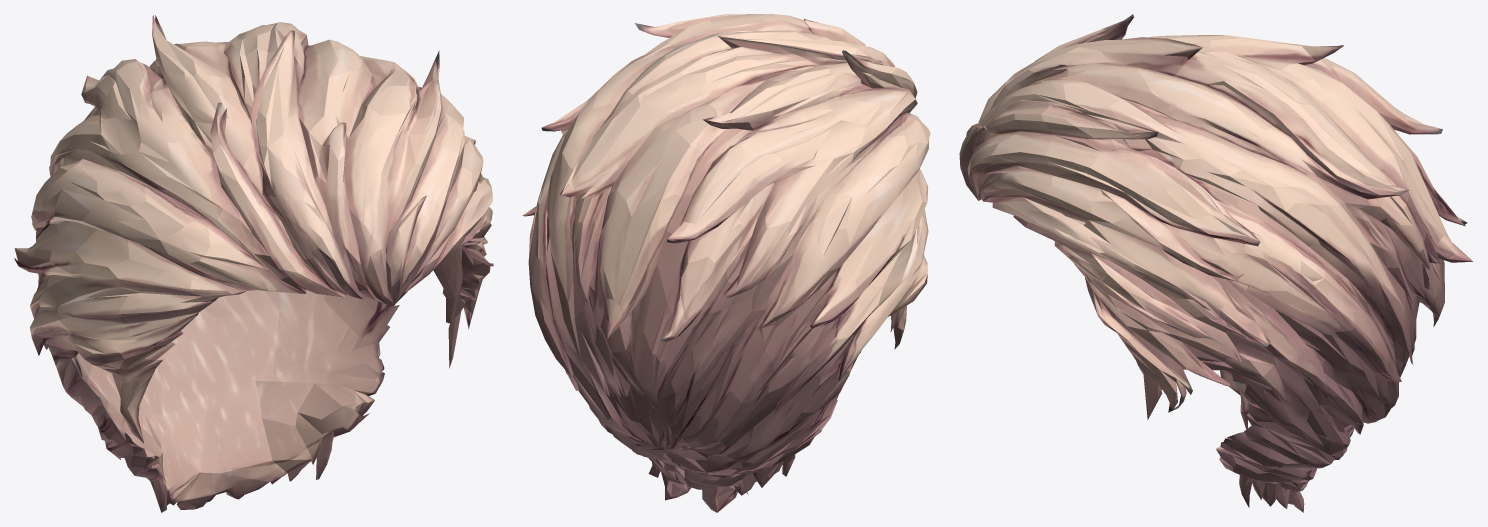
Rendered from fennal_m-queue-nuque.glb.
3 renders of one model, left to right at view 1: azimuth 30°, elevation 25°; view 2: azimuth 150°, elevation 25°; view 3: azimuth 270°, elevation 25°, orthographic. The views are drawn at different scales.
Parts seen in each view (by area): view 1: geometry_0; view 2: geometry_0; view 3: geometry_0.
Boxes of the visible parts, bbox=[...] form: geometry_0: bbox=[14, 15, 493, 512]; geometry_0: bbox=[522, 14, 930, 512]; geometry_0: bbox=[959, 14, 1472, 512].
Bounding box in the file's own units: 1.65 × 1.88 × 1.9.
1 material, 1 textured.
